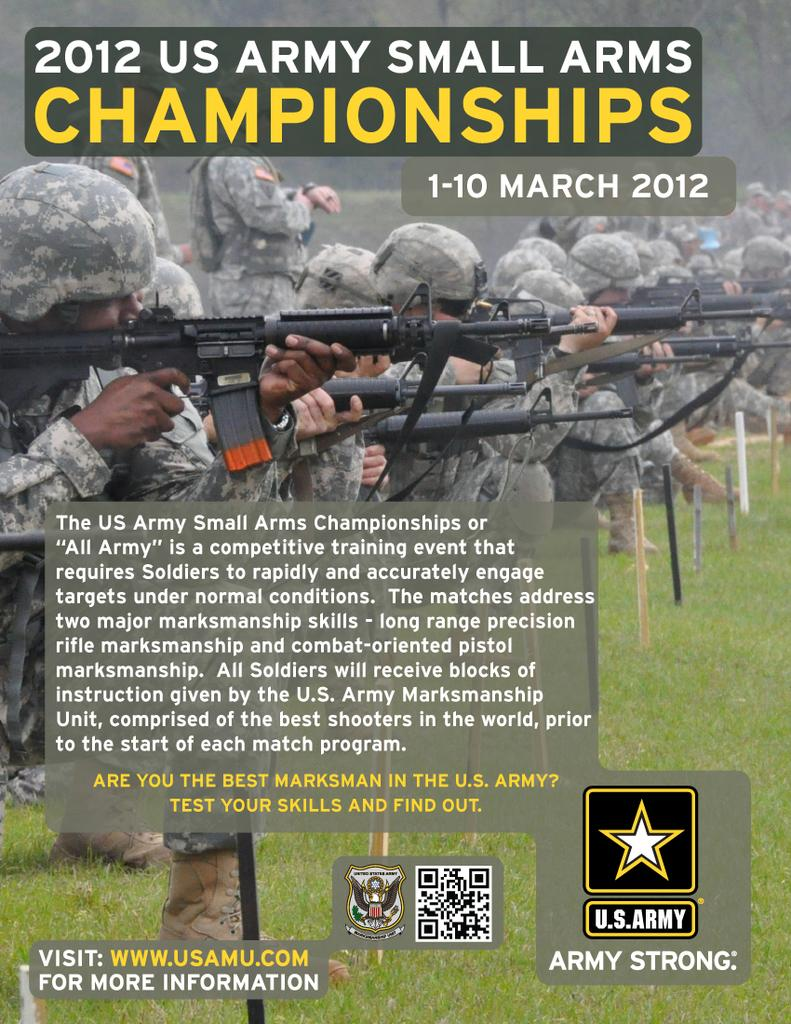Rifle: (0, 286, 545, 468)
